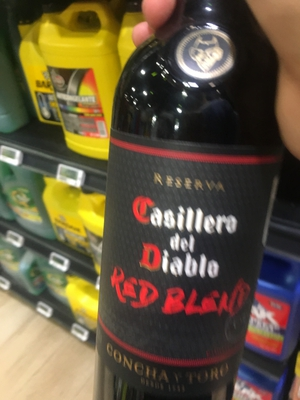casillero del diablo red blend: (96, 20, 285, 400)
